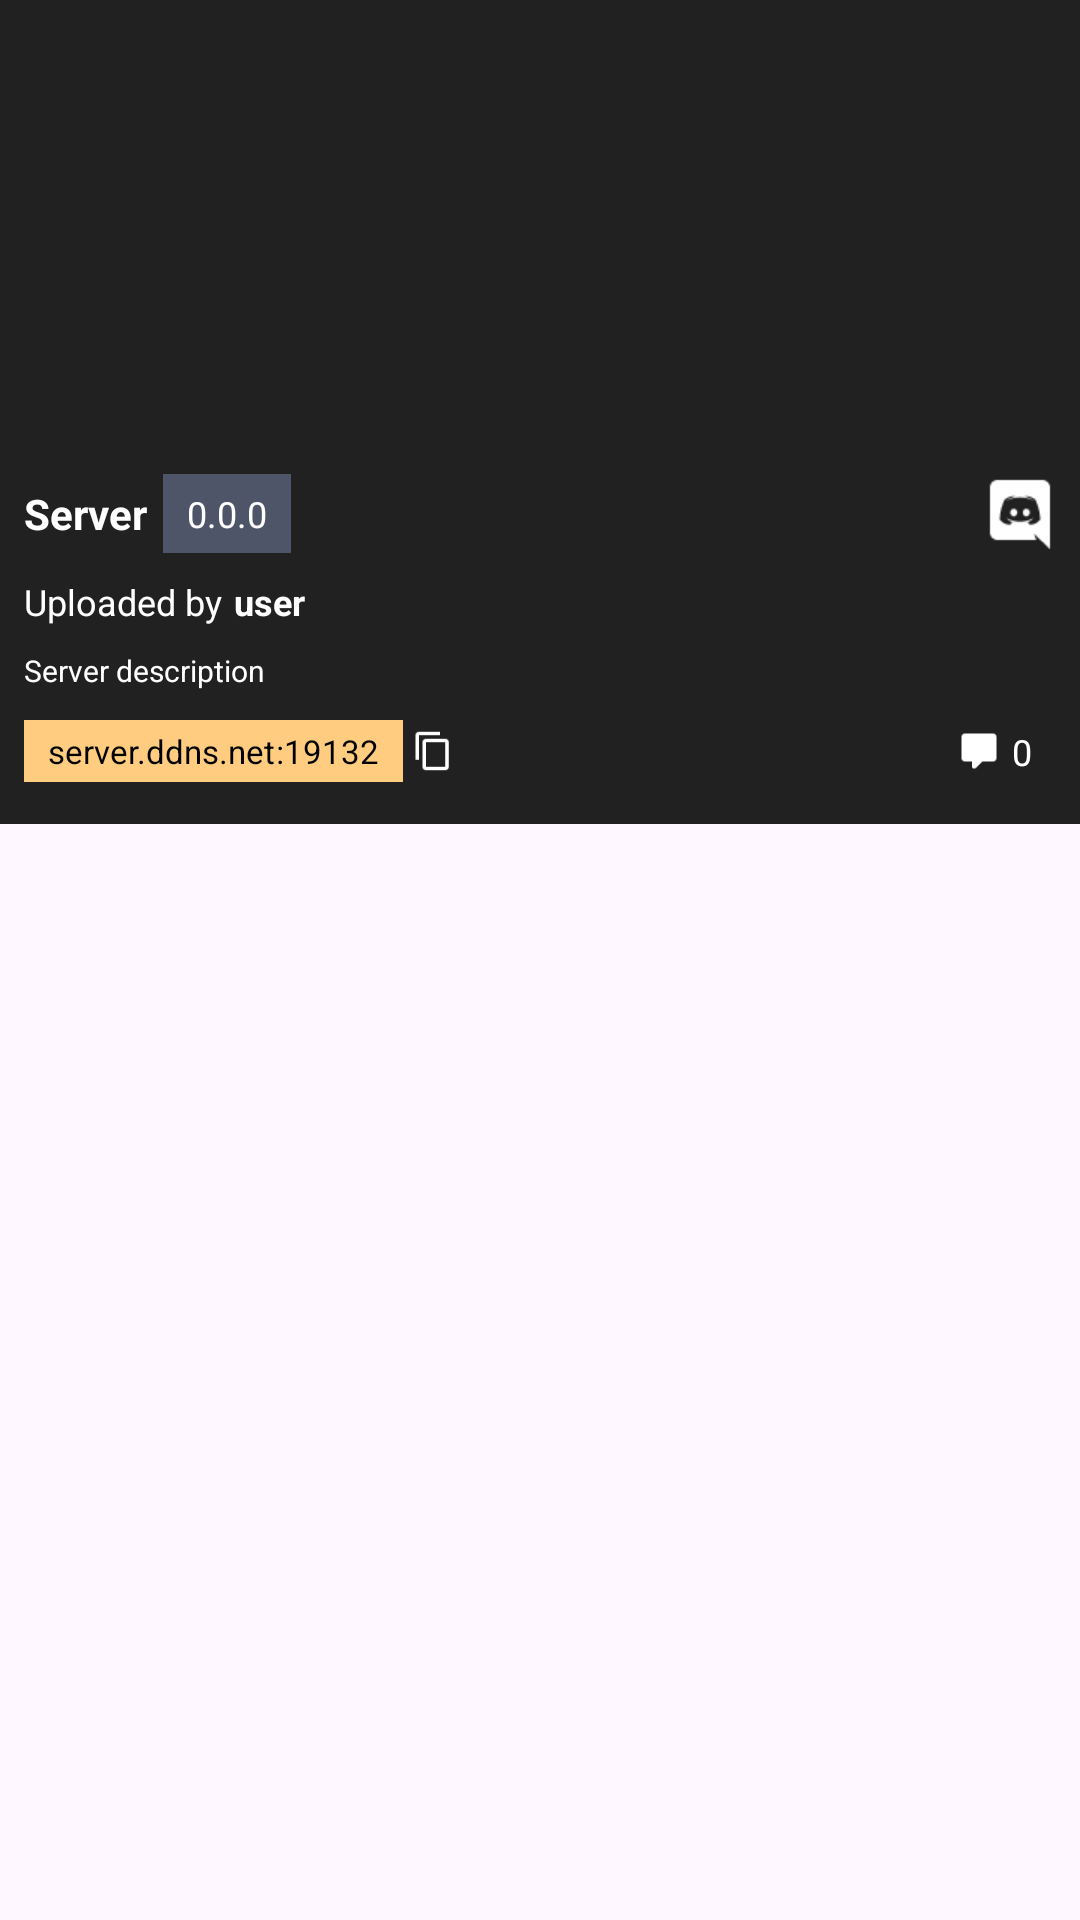

Locate icon controls on the screen. Image size 1080px×1920px, boxes as box(x1, y1, x2, y2).
comment: box(961, 733, 997, 769)
